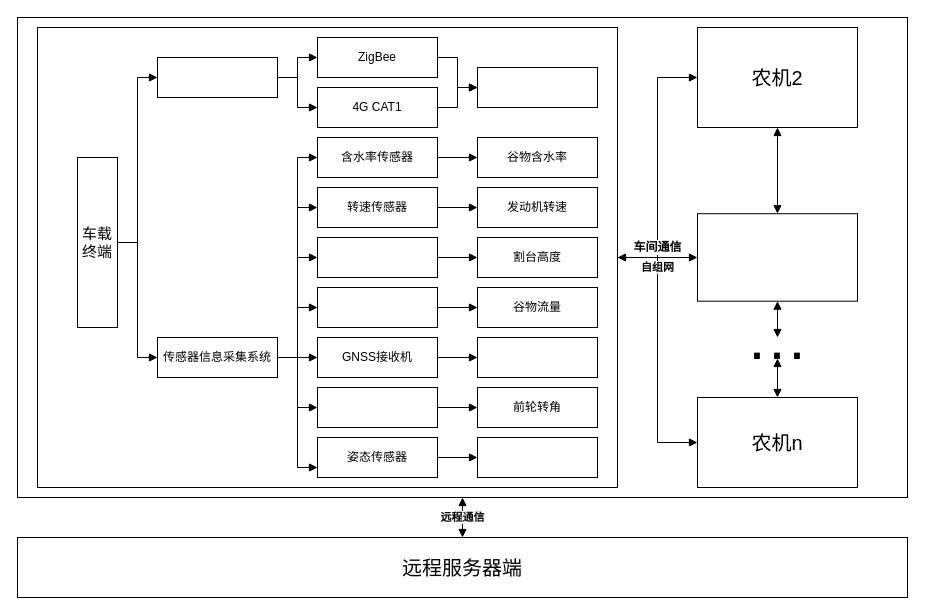
The diagram is 925 pixels wide and 615 high, and some of its shapes have lost their labels. The shapes that lost their labels are listed below. From the top down, each one's centre as x and y in pixels, then its label:
At pixel 217 77: "通信系统".
At pixel 537 87: "状态信息上传 控制指令接收".
At pixel 377 257: "割台高度传感器".
At pixel 777 257: "农机3".
At pixel 377 307: "谷物流量传感器".
At pixel 537 357: "经度、纬度、高程".
At pixel 377 407: "角度传感器".
At pixel 537 457: "俯仰角、横滚角、 航向角".
